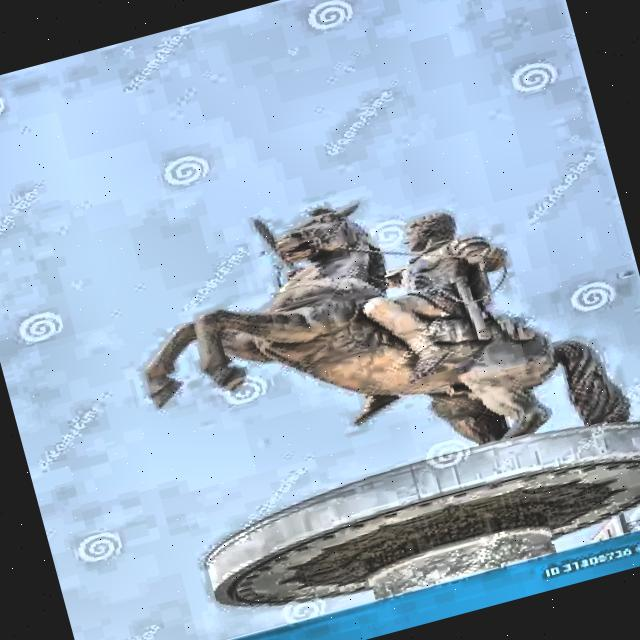alexander the great monument: (102, 125, 640, 637)
